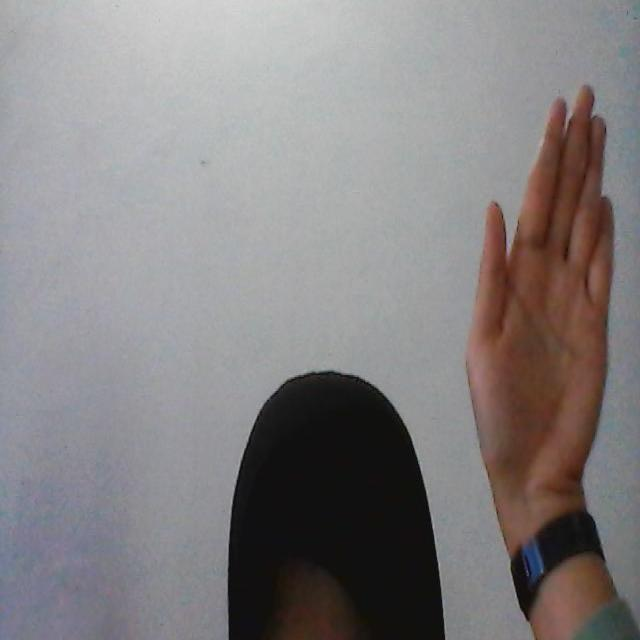hand: (461, 85, 618, 555)
